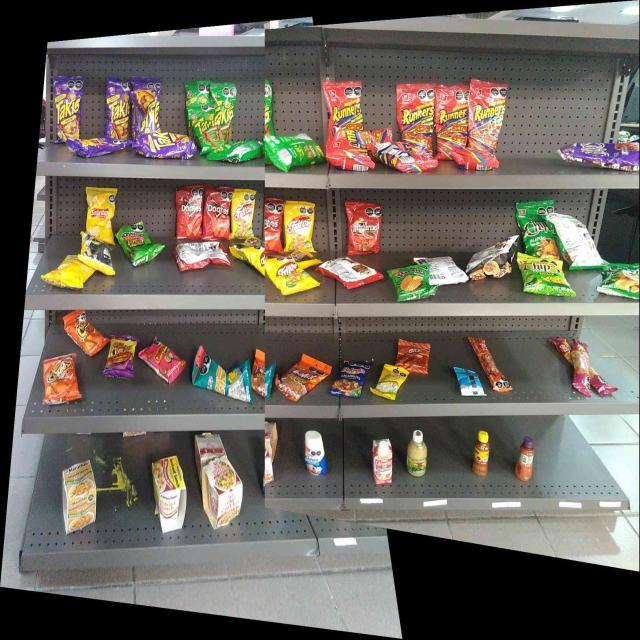bitzEnchilado90: (403, 341, 428, 373)
bitzEnchilado95: (483, 351, 511, 391)
bitzHabanero: (562, 336, 600, 394)
bokadosCacahuates: (338, 360, 364, 397)
botaneraChilito: (474, 431, 488, 477)
cheetosFlaminHot: (110, 334, 134, 380)
cheetosOriginal: (45, 359, 77, 402), (68, 314, 101, 350)
chipsFuego: (562, 142, 638, 171)
chipsJalapeno: (520, 203, 554, 256)
chipsPapatinas: (520, 258, 568, 295)
churrumais: (143, 342, 181, 378)
delPrimoSalsa: (407, 428, 428, 476)
doritosNacho: (205, 185, 230, 239), (177, 188, 202, 239), (265, 198, 283, 253)
fritosLimon: (268, 257, 313, 292), (285, 204, 315, 254), (232, 190, 255, 238)
leoMix: (284, 358, 320, 397)
maruchanPollo: (63, 464, 97, 530)
maruchanRes: (153, 458, 187, 529)
nestleCarnation: (372, 438, 394, 484)
nestleLechera: (304, 431, 326, 477)
nissinRes: (203, 462, 242, 526)
productoAtras: (374, 142, 428, 172), (268, 136, 321, 166), (324, 258, 380, 286), (559, 213, 594, 256), (177, 242, 228, 269), (472, 246, 513, 278), (82, 238, 113, 269), (431, 258, 465, 285), (221, 143, 265, 159), (458, 368, 482, 397)
rancheritos: (347, 202, 380, 253)
rufflesQueso: (393, 268, 430, 298)
runners: (470, 82, 506, 154), (436, 85, 466, 155), (398, 85, 434, 138), (326, 82, 363, 130)
sabritasOriginal: (87, 188, 115, 236), (57, 254, 81, 287)
semillasCalabaza: (379, 365, 401, 398)
semillasGirasol: (196, 353, 250, 399)
tajinDulce: (515, 436, 534, 480)
takisFuego: (54, 74, 82, 138), (132, 77, 160, 133), (135, 136, 194, 160), (107, 78, 129, 138), (72, 140, 122, 158)
takisOriginal: (196, 106, 220, 147), (221, 84, 236, 141)
tostitos: (121, 225, 161, 261)
